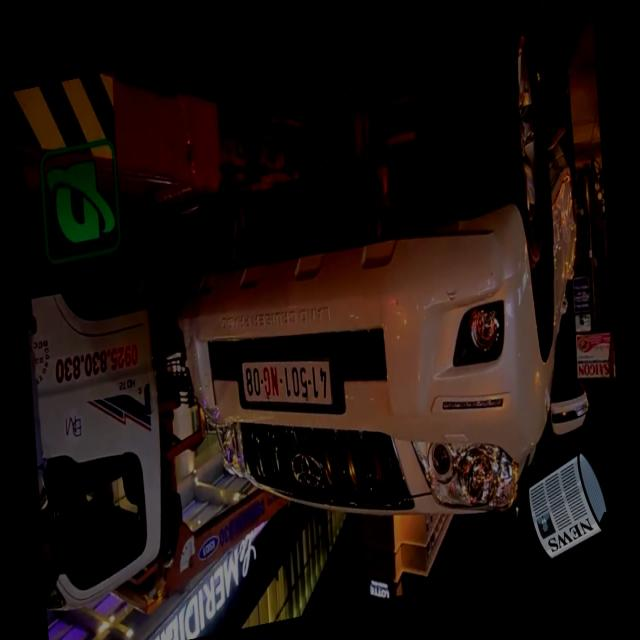bien_ngoai_giao: (238, 352, 332, 414)
